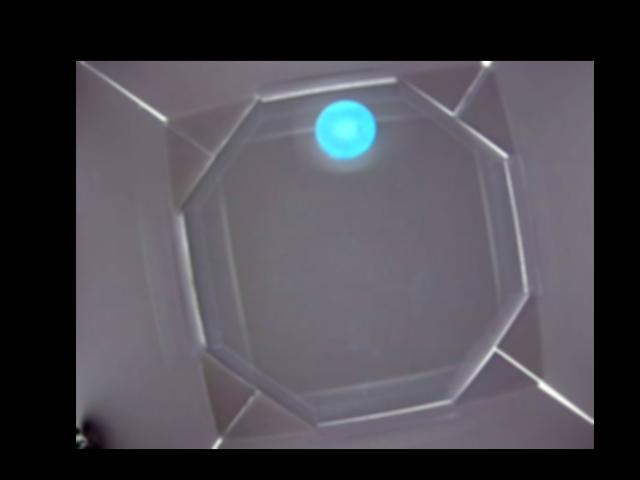Carrot: (316, 100, 376, 158)
